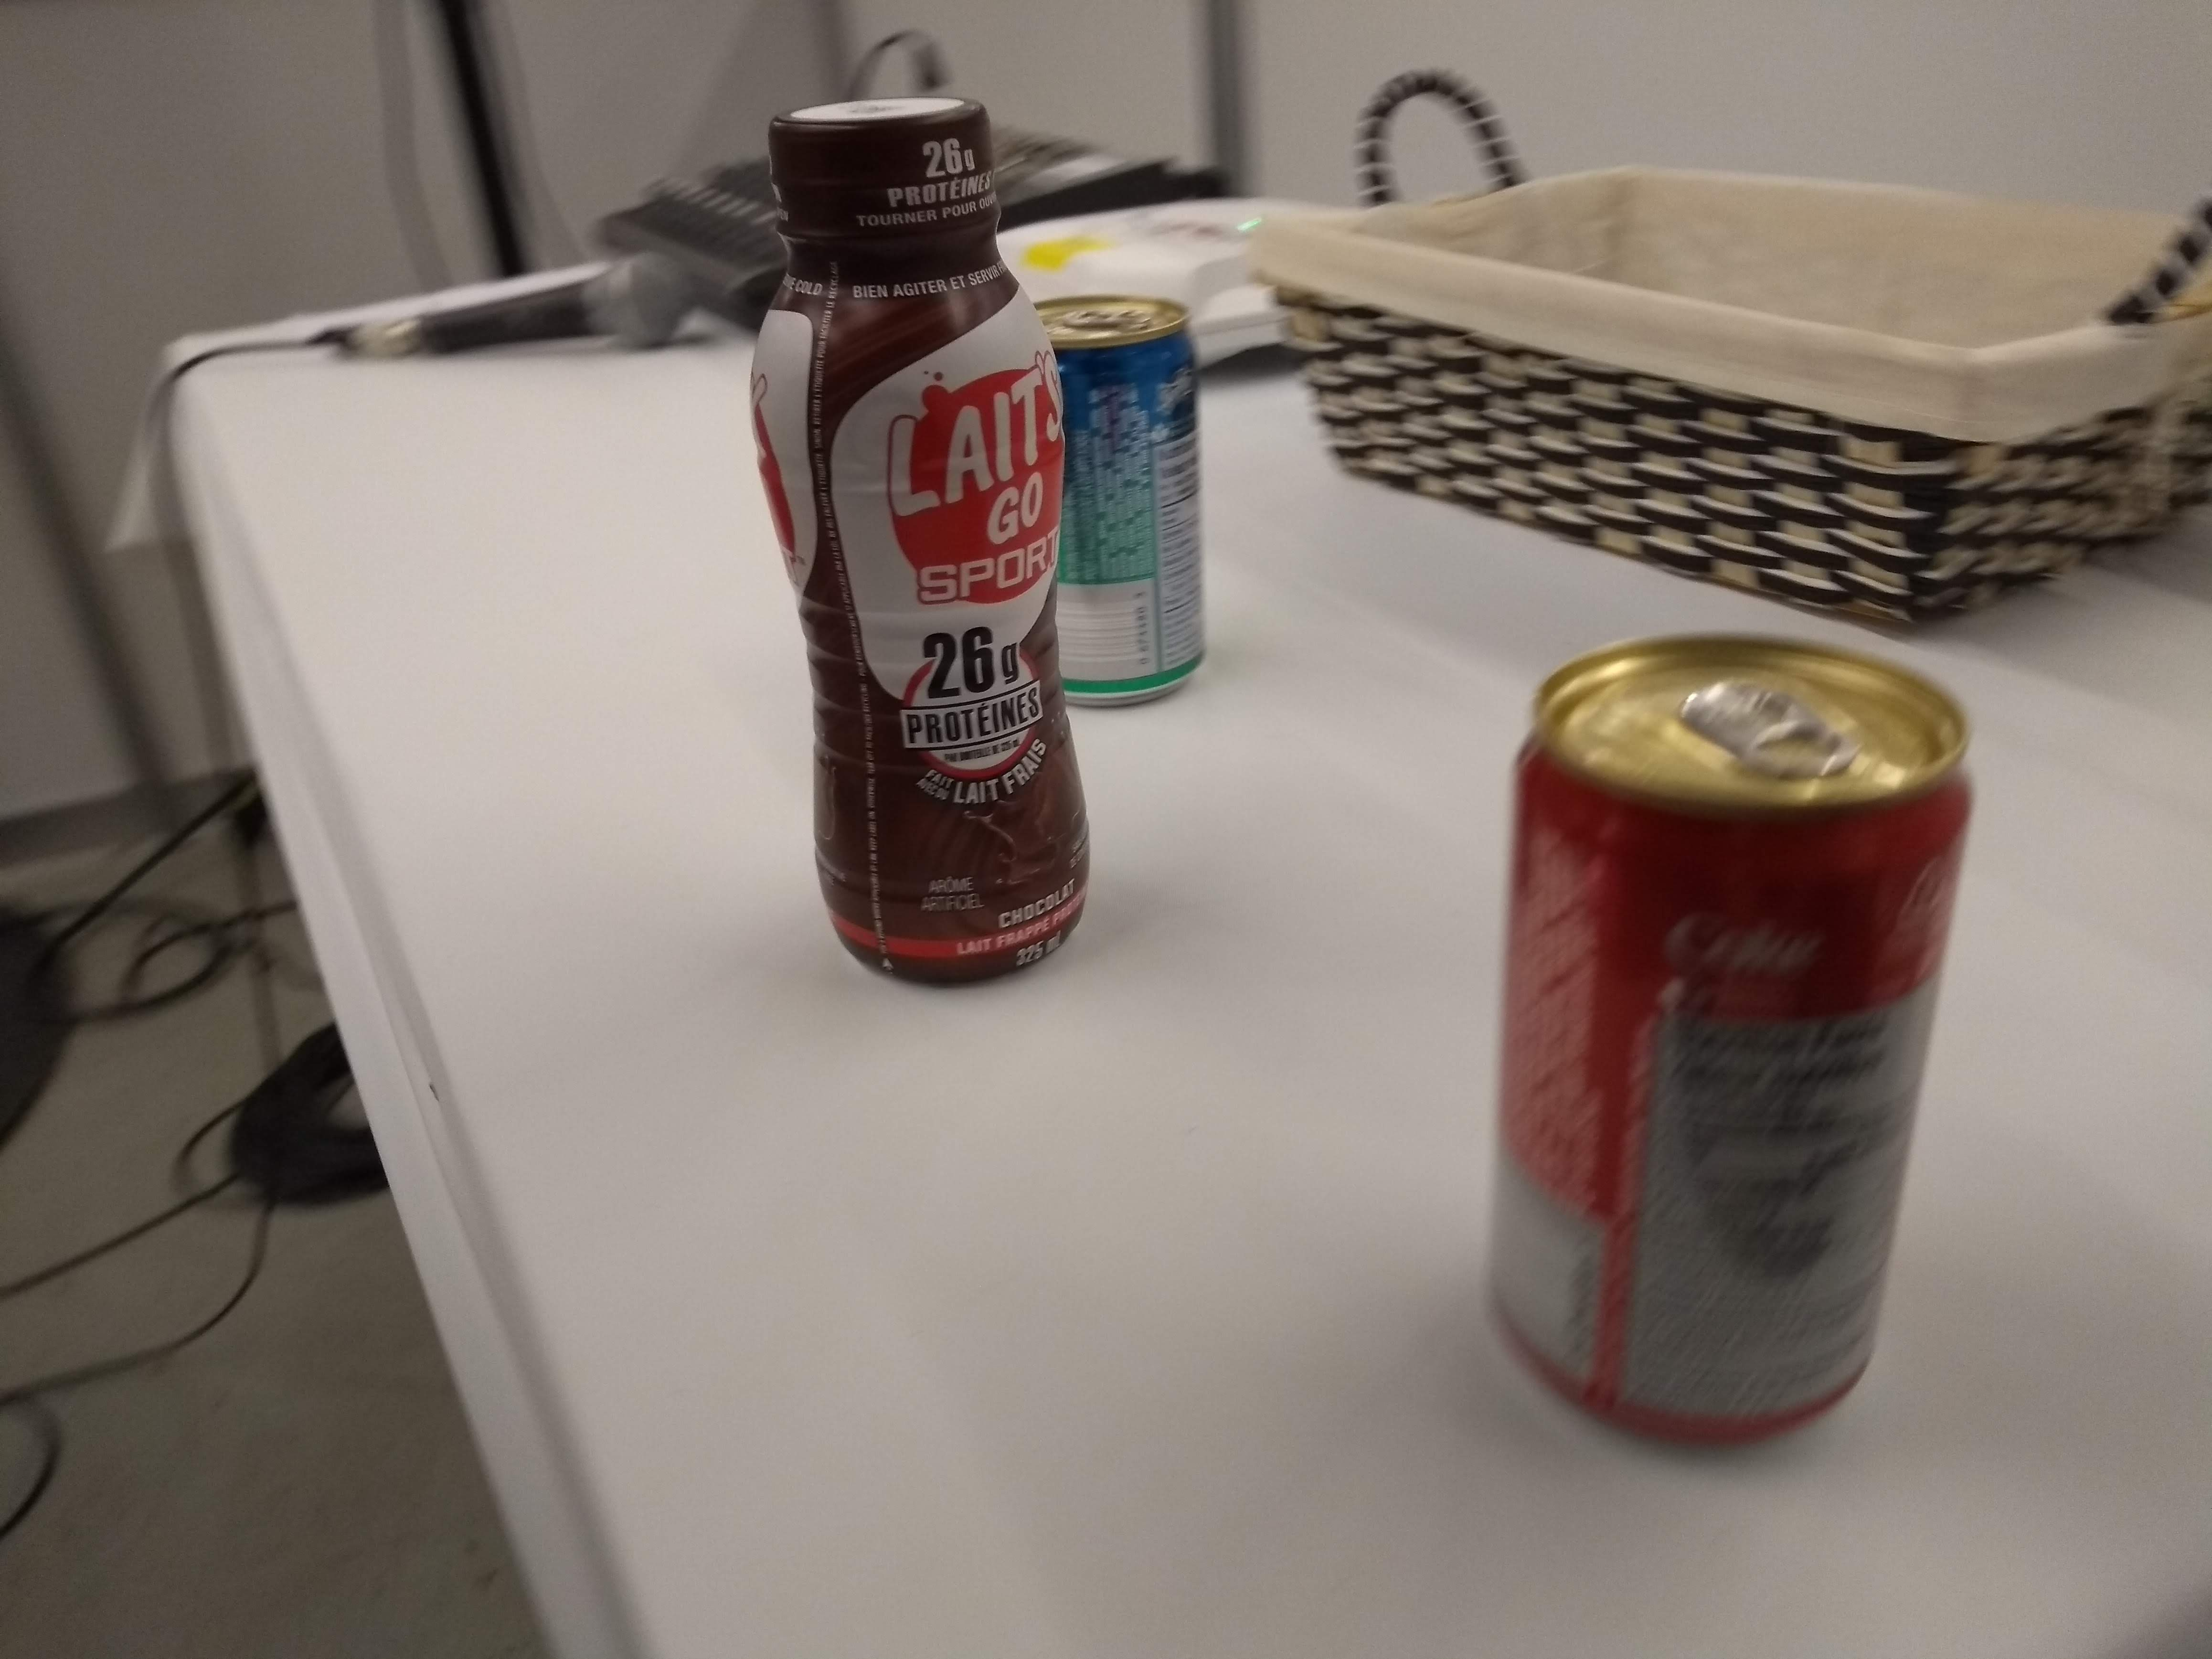chocolate_drink: (737, 84, 1101, 1006)
coke: (1468, 620, 1986, 1483)
